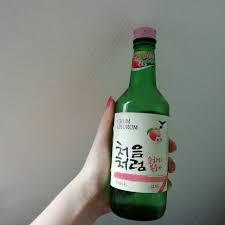soju: (108, 26, 168, 221)
